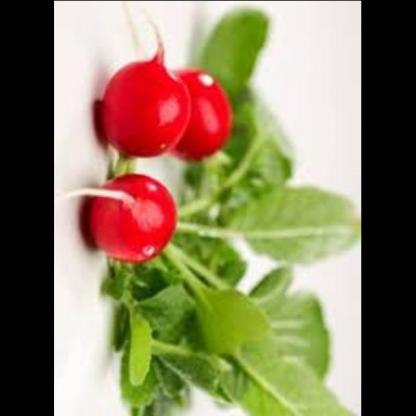rediska: (95, 54, 195, 162), (80, 165, 178, 266), (171, 62, 242, 164)
